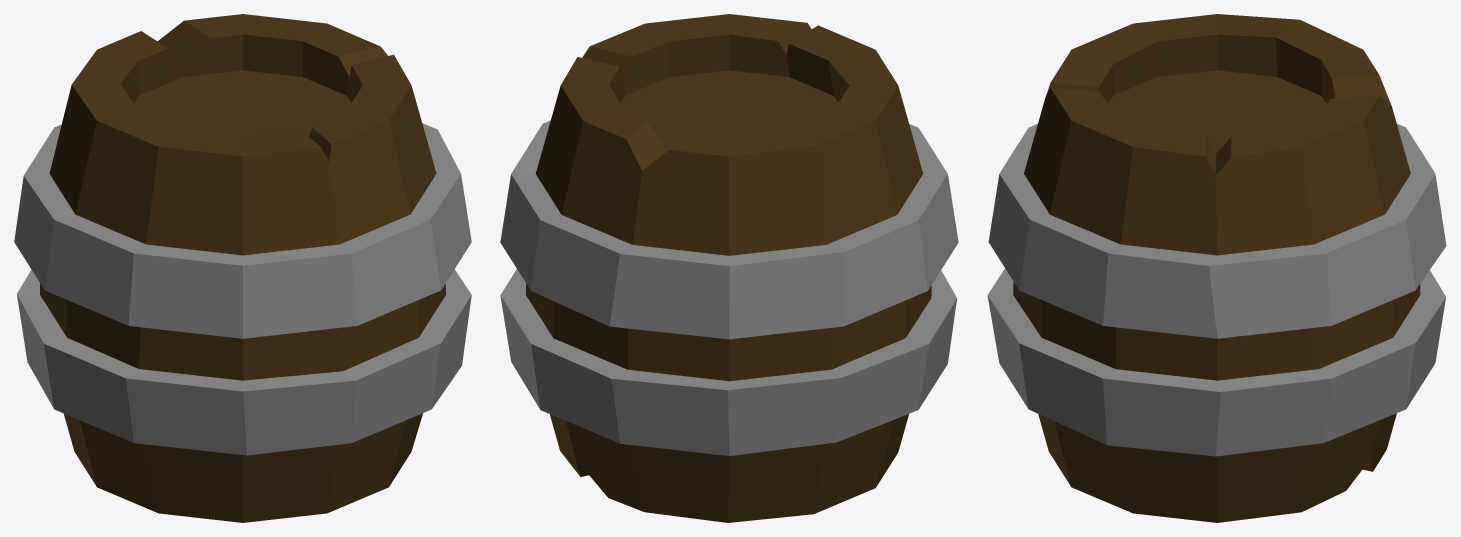
Rendered from barrel.glb.
3 views of the same model, side by side, from view 1: azimuth 30°, elevation 25°; view 2: azimuth 150°, elevation 25°; view 3: azimuth 270°, elevation 25° (orthographic).
Parts seen in each view (by area): view 1: barrel; view 2: barrel; view 3: barrel.
Part boxes in pixels (<box>): barrel: <box>14,14,471,522</box>; barrel: <box>500,14,958,522</box>; barrel: <box>987,14,1446,522</box>.
Size of the model in its own units: 1.36 by 1.21 by 1.36.
